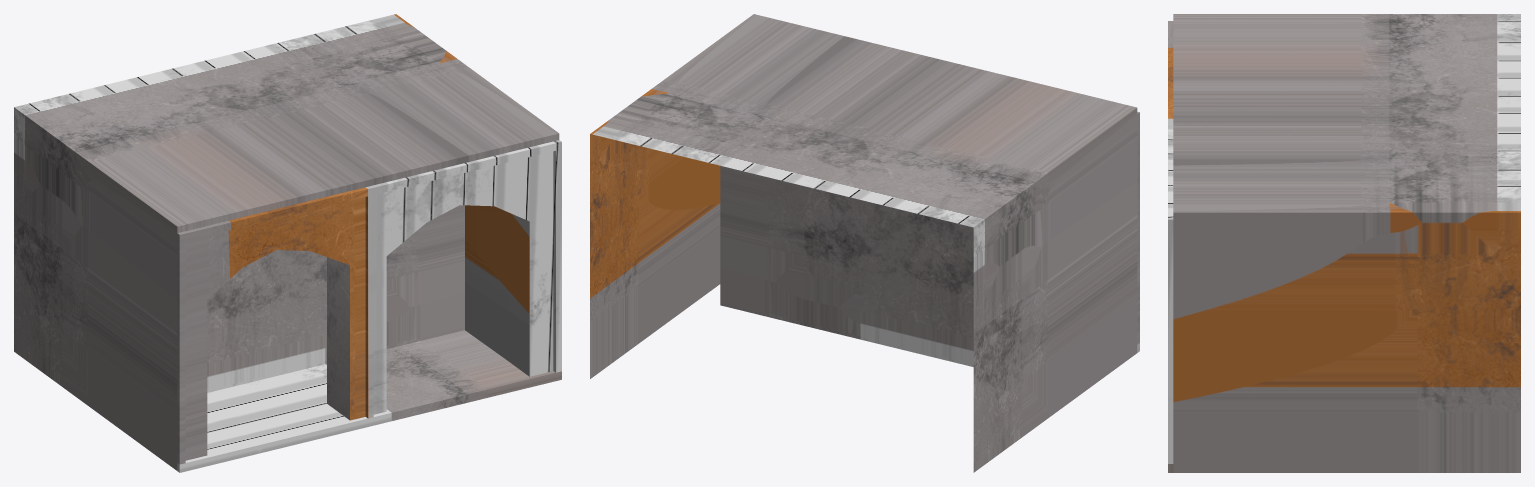
The picture shows the model from 3 angles, left to right: view 1: azimuth 30°, elevation 25°; view 2: azimuth 150°, elevation 25°; view 3: azimuth 270°, elevation 25°; orthographic projection. The views are drawn at different scales.
Parts seen in each view (by area): view 1: Building_3F_A3; view 2: Building_3F_A3; view 3: Building_3F_A3.
Part boxes in pixels (<box>): Building_3F_A3: <box>14,14,561,472</box>; Building_3F_A3: <box>590,14,1139,472</box>; Building_3F_A3: <box>1168,14,1520,472</box>.
Size of the model in its own units: 4.42 by 2.7 by 3.32.
